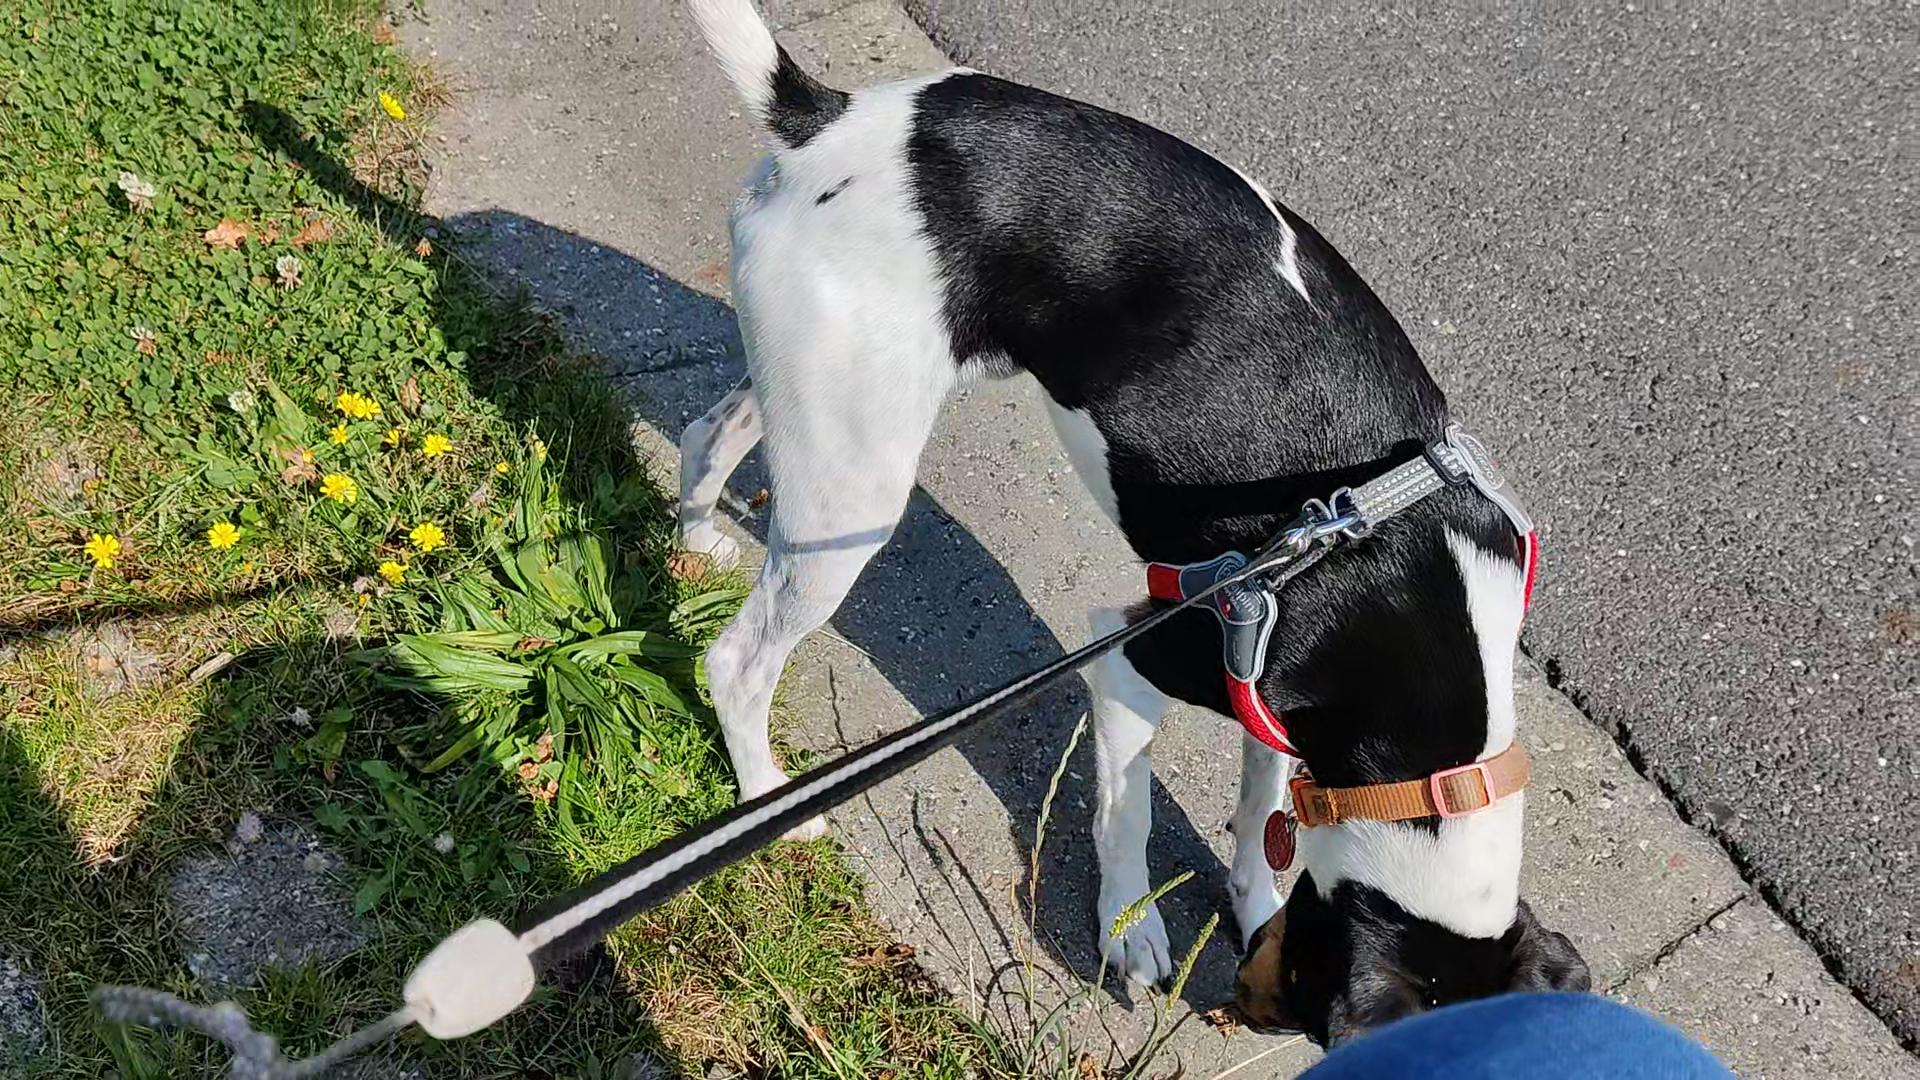Dog: (667, 0, 1593, 1055)
